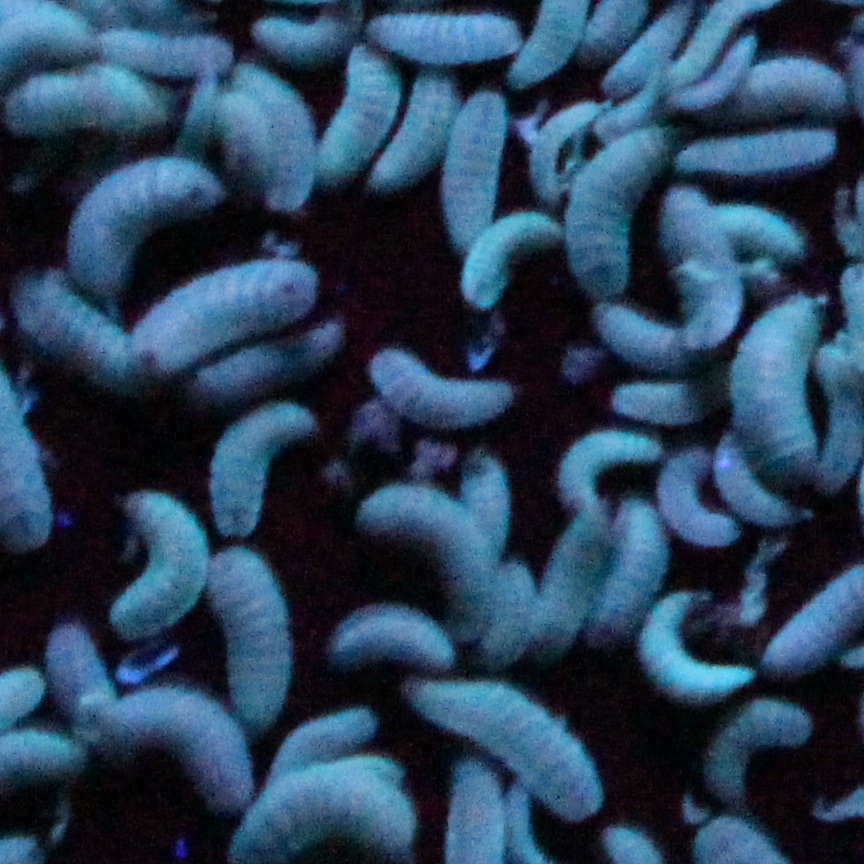larve: (405, 678, 599, 818), (69, 157, 224, 281), (359, 488, 486, 630), (730, 289, 825, 476), (567, 121, 669, 294), (99, 691, 246, 805), (141, 263, 313, 358), (210, 405, 313, 542), (213, 557, 289, 726), (121, 492, 206, 640), (359, 345, 512, 427), (233, 62, 314, 211), (1, 66, 168, 138), (644, 596, 748, 711), (26, 274, 135, 381), (438, 85, 509, 245), (322, 34, 395, 182), (669, 187, 730, 353), (703, 709, 811, 800), (535, 517, 604, 656), (547, 433, 659, 515), (377, 75, 455, 188), (460, 208, 545, 305), (194, 326, 338, 383), (368, 9, 521, 62), (807, 346, 864, 487), (329, 607, 458, 666), (672, 128, 836, 174), (604, 499, 659, 635), (656, 453, 731, 546), (254, 1, 374, 59), (607, 10, 687, 95), (712, 438, 790, 525), (728, 58, 840, 115), (40, 622, 113, 707), (526, 105, 594, 195), (271, 711, 376, 768), (93, 31, 231, 73), (672, 36, 758, 103), (712, 205, 808, 261), (605, 313, 689, 371), (463, 448, 508, 556), (215, 88, 263, 181), (612, 385, 700, 417), (191, 65, 216, 146)
